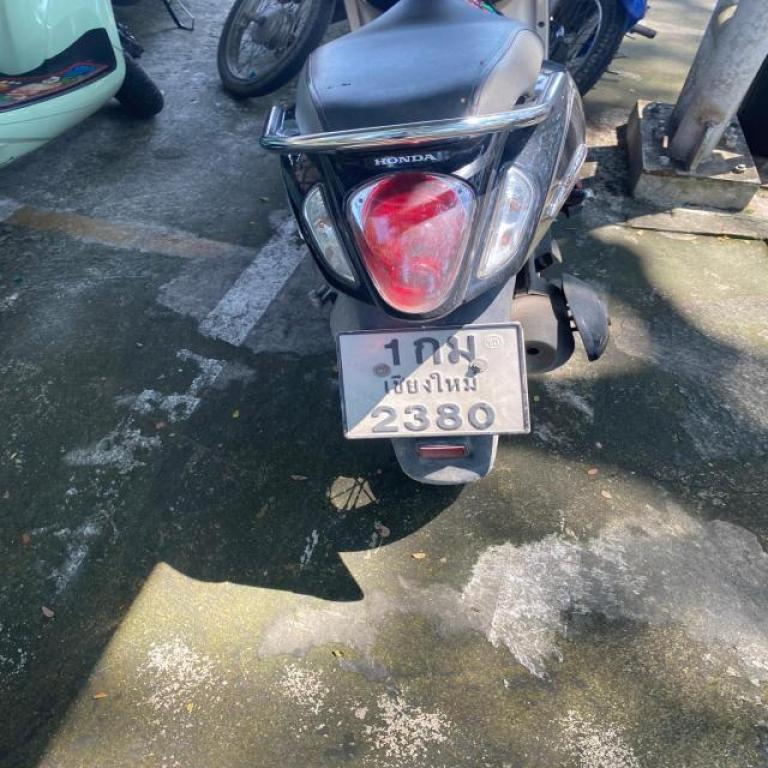license plate: (337, 324, 528, 438)
